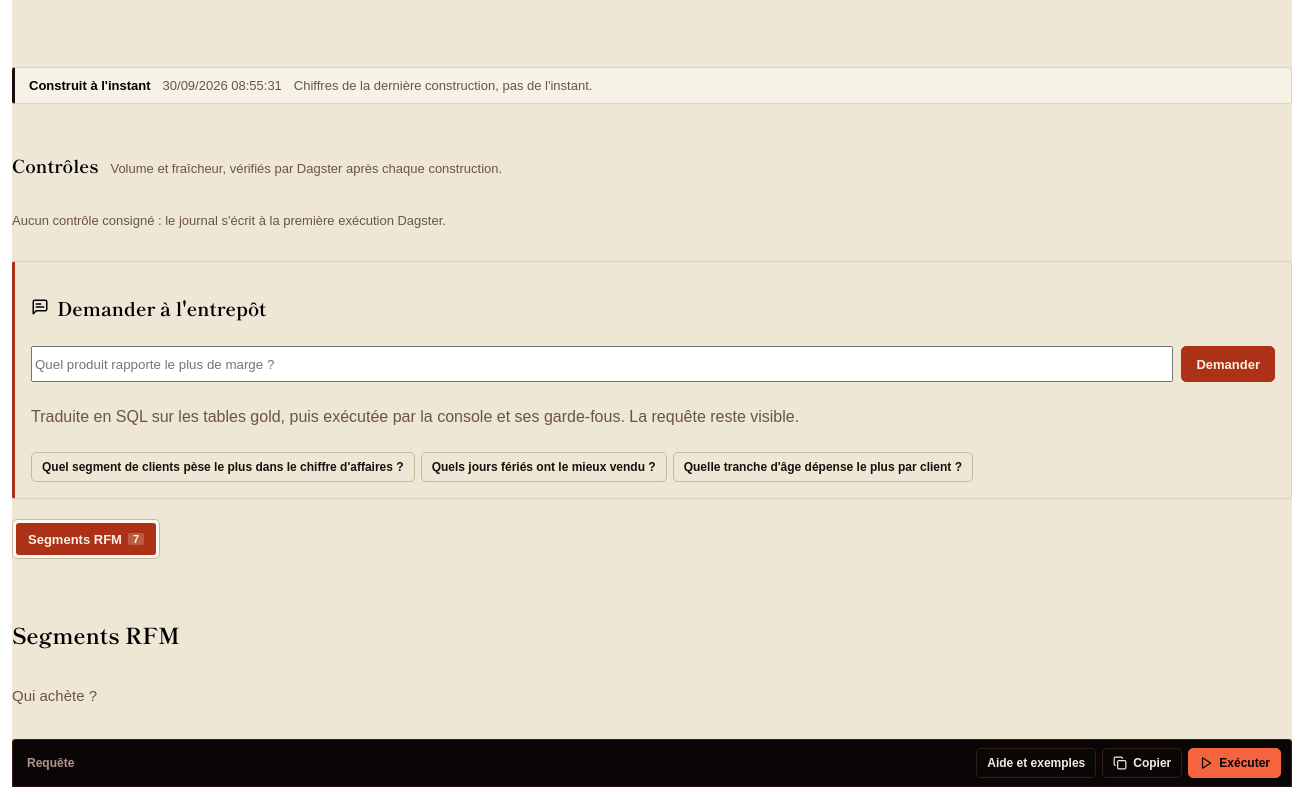
Test: Demander à l'entrepôt › dit pourquoi il refuse, sans rien exécuter
In the field named "question sur l'activité": [602, 364] box [31,346,1173,382], type "Les e-mails des clients Champions"
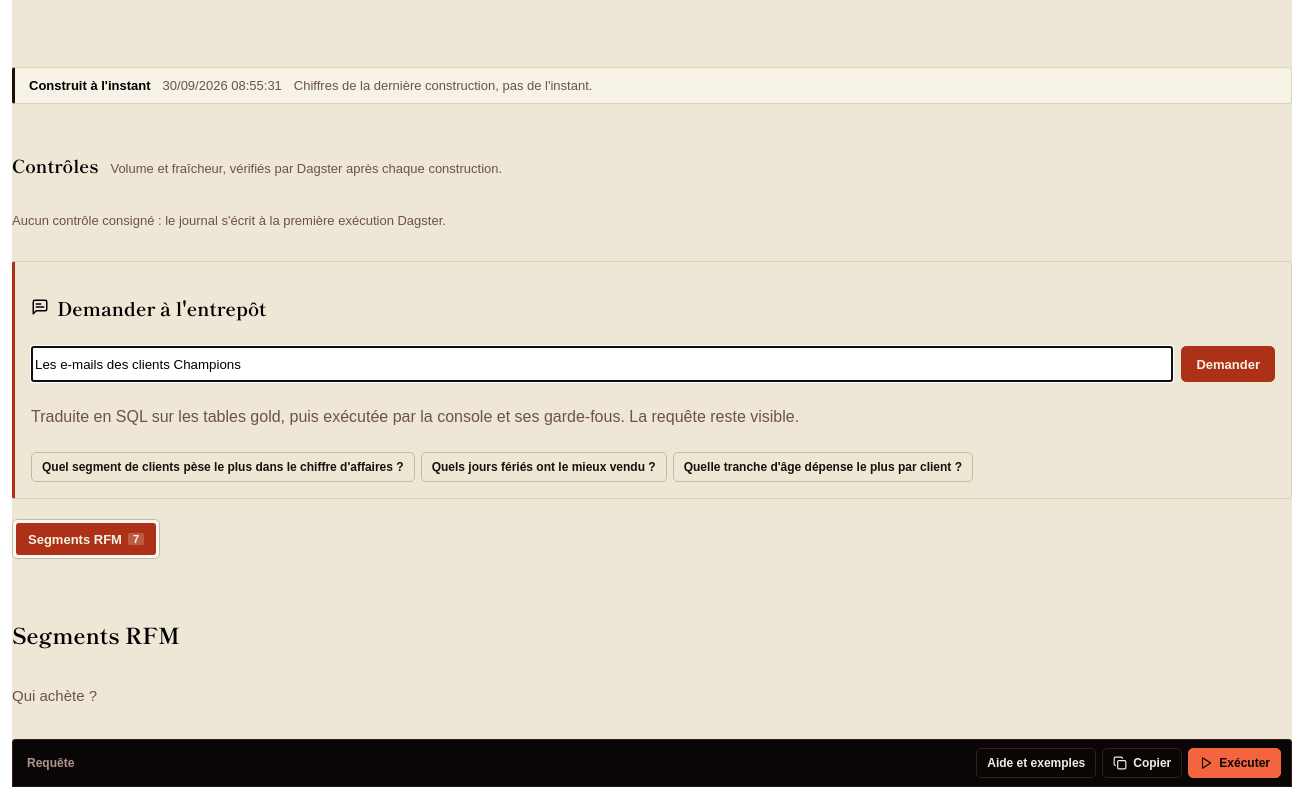
Click the button "Demander": [1228, 364] box [1181,346,1275,382]
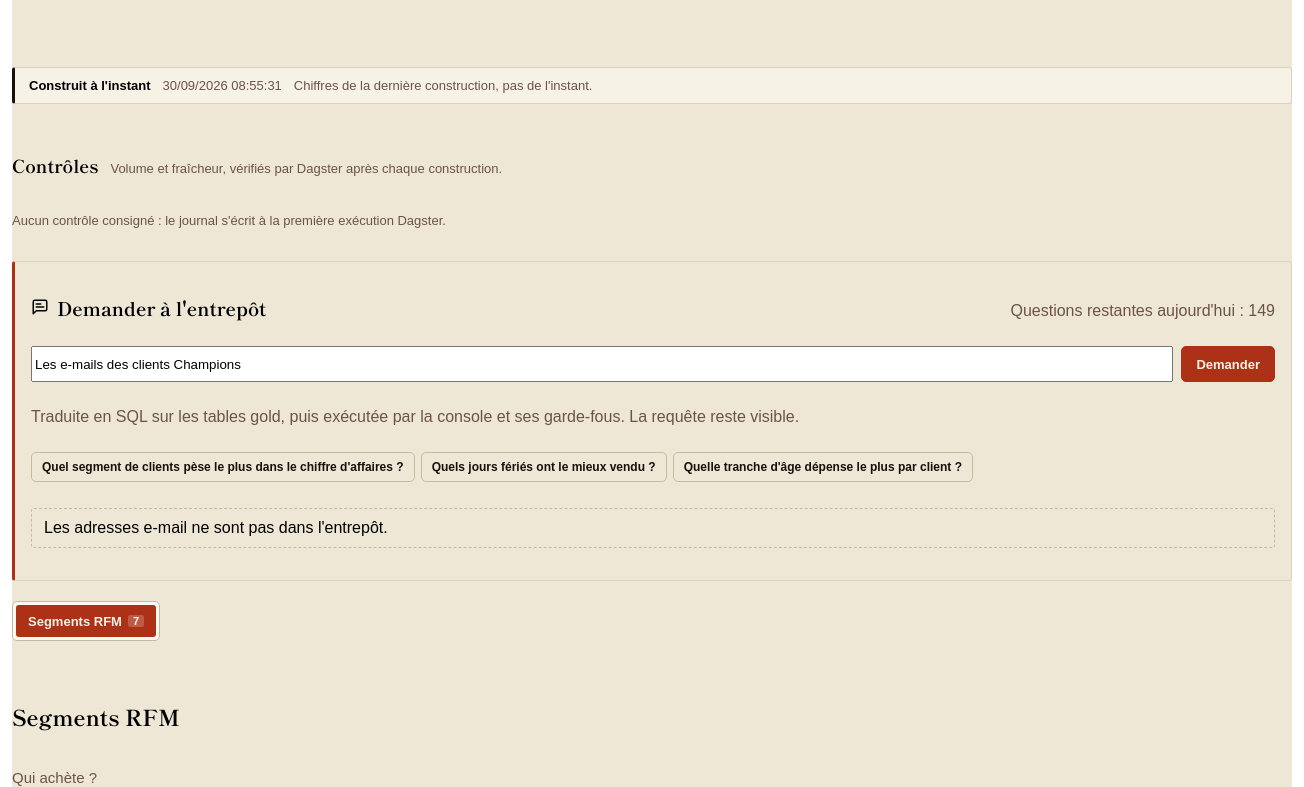
Now the text "Les adresses e-mail ne sont pas dans l'entrepôt." is shown, box [31,508,1275,548]
